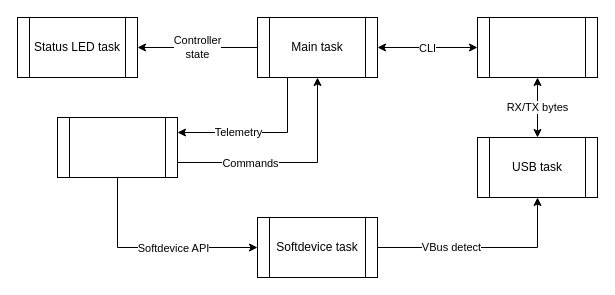
Image size: 615x295. Some labels were removed from this diagram. Each missing label, with the centre of its shape:
"BLE task" goes at point (117, 147).
"Serial task" goes at point (537, 47).
